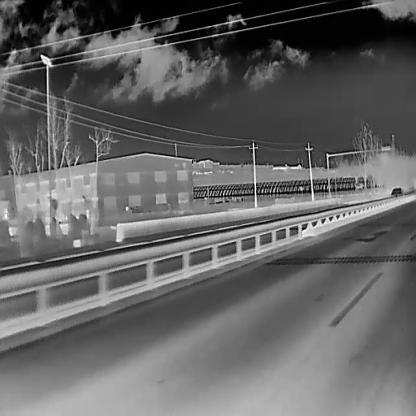car: (389, 187, 404, 197)
